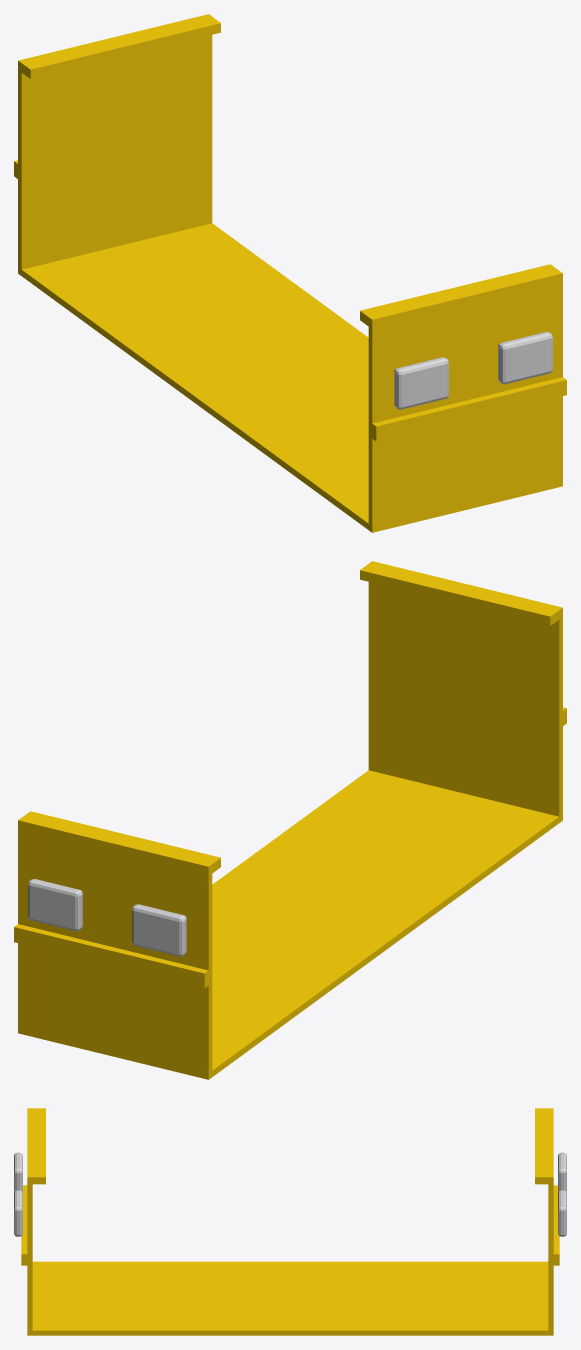
The model's file is Fiber_Coupler.glb.
The picture shows the model from 3 angles, top to bottom: view 1: azimuth 30°, elevation 25°; view 2: azimuth 150°, elevation 25°; view 3: azimuth 270°, elevation 25°; orthographic projection. The views are drawn at different scales.
Visible parts, largest first — view 1: Sleeve, QuikLock_-1_+0.03, QuikLock_-1_-0.03; view 2: Sleeve, QuikLock_+1_+0.03, QuikLock_+1_-0.03; view 3: Sleeve, QuikLock_+1_+0.03, QuikLock_-1_+0.03, QuikLock_+1_-0.03, QuikLock_-1_-0.03.
Boxes of the visible parts, x1,y1,x2,y2 form: Sleeve: (14,14,566,532); QuikLock_-1_+0.03: (498,332,552,384); QuikLock_-1_-0.03: (394,357,448,409); Sleeve: (14,561,566,1079); QuikLock_+1_+0.03: (28,879,82,931); QuikLock_+1_-0.03: (132,904,186,956); Sleeve: (21,1108,559,1335); QuikLock_+1_+0.03: (558,1190,566,1236); QuikLock_-1_+0.03: (14,1190,22,1236); QuikLock_+1_-0.03: (558,1152,566,1192); QuikLock_-1_-0.03: (14,1152,22,1192).
Size of the model in its own units: 0.11 by 0.1175 by 0.372.
